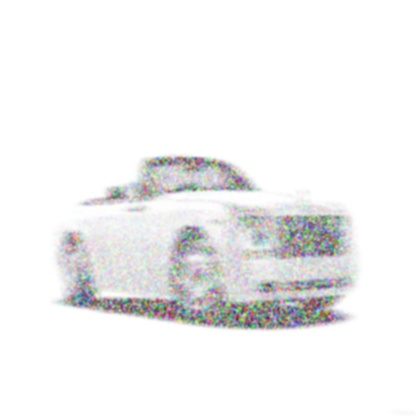Vehicle: (57, 156, 359, 324)
